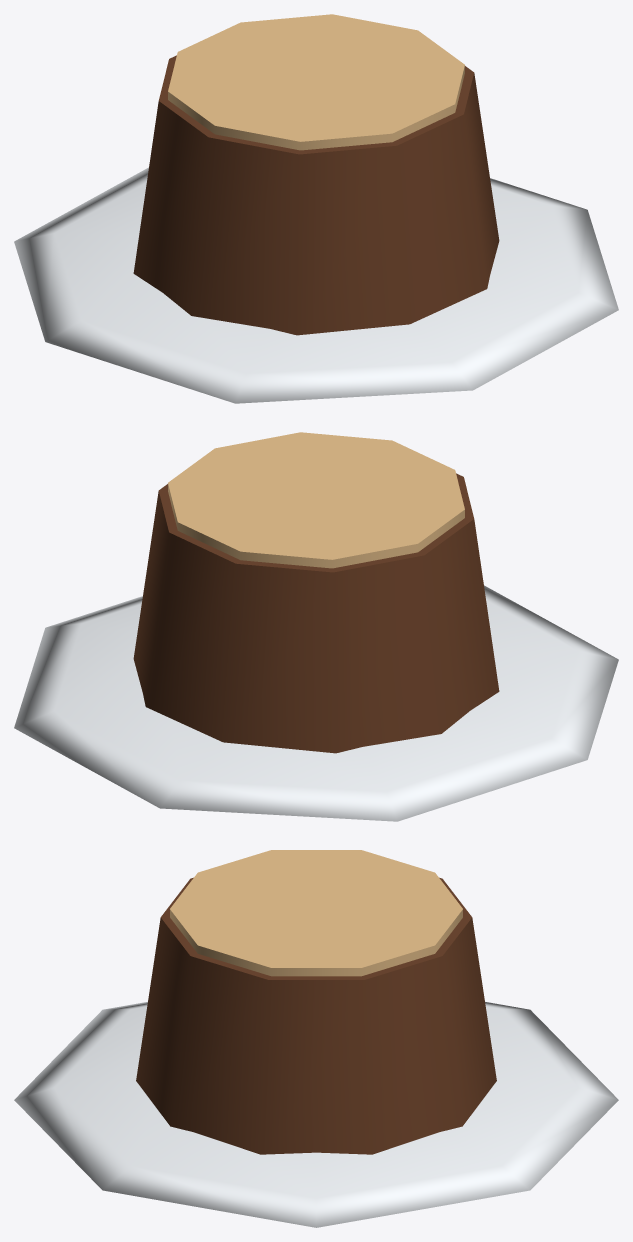
The model's file is stump.glb.
3 renders of one model, top to bottom at view 1: azimuth 30°, elevation 25°; view 2: azimuth 150°, elevation 25°; view 3: azimuth 270°, elevation 25°, orthographic. The views are drawn at different scales.
Parts seen in each view (by area): view 1: stump; view 2: stump; view 3: stump.
Part boxes in pixels (x1=…): stump: x1=14, y1=14, x2=618, y2=403; stump: x1=14, y1=432, x2=618, y2=821; stump: x1=14, y1=850, x2=618, y2=1227.
Size of the model in its own units: 0.66 by 0.26 by 0.66.
